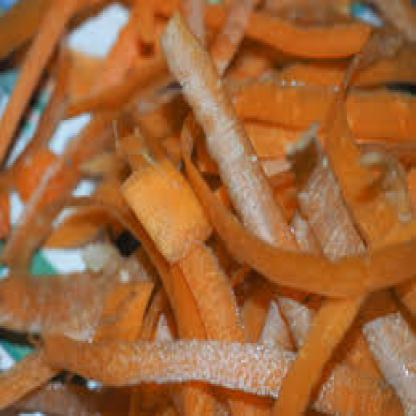Disposable tableware: (0, 2, 416, 416)
